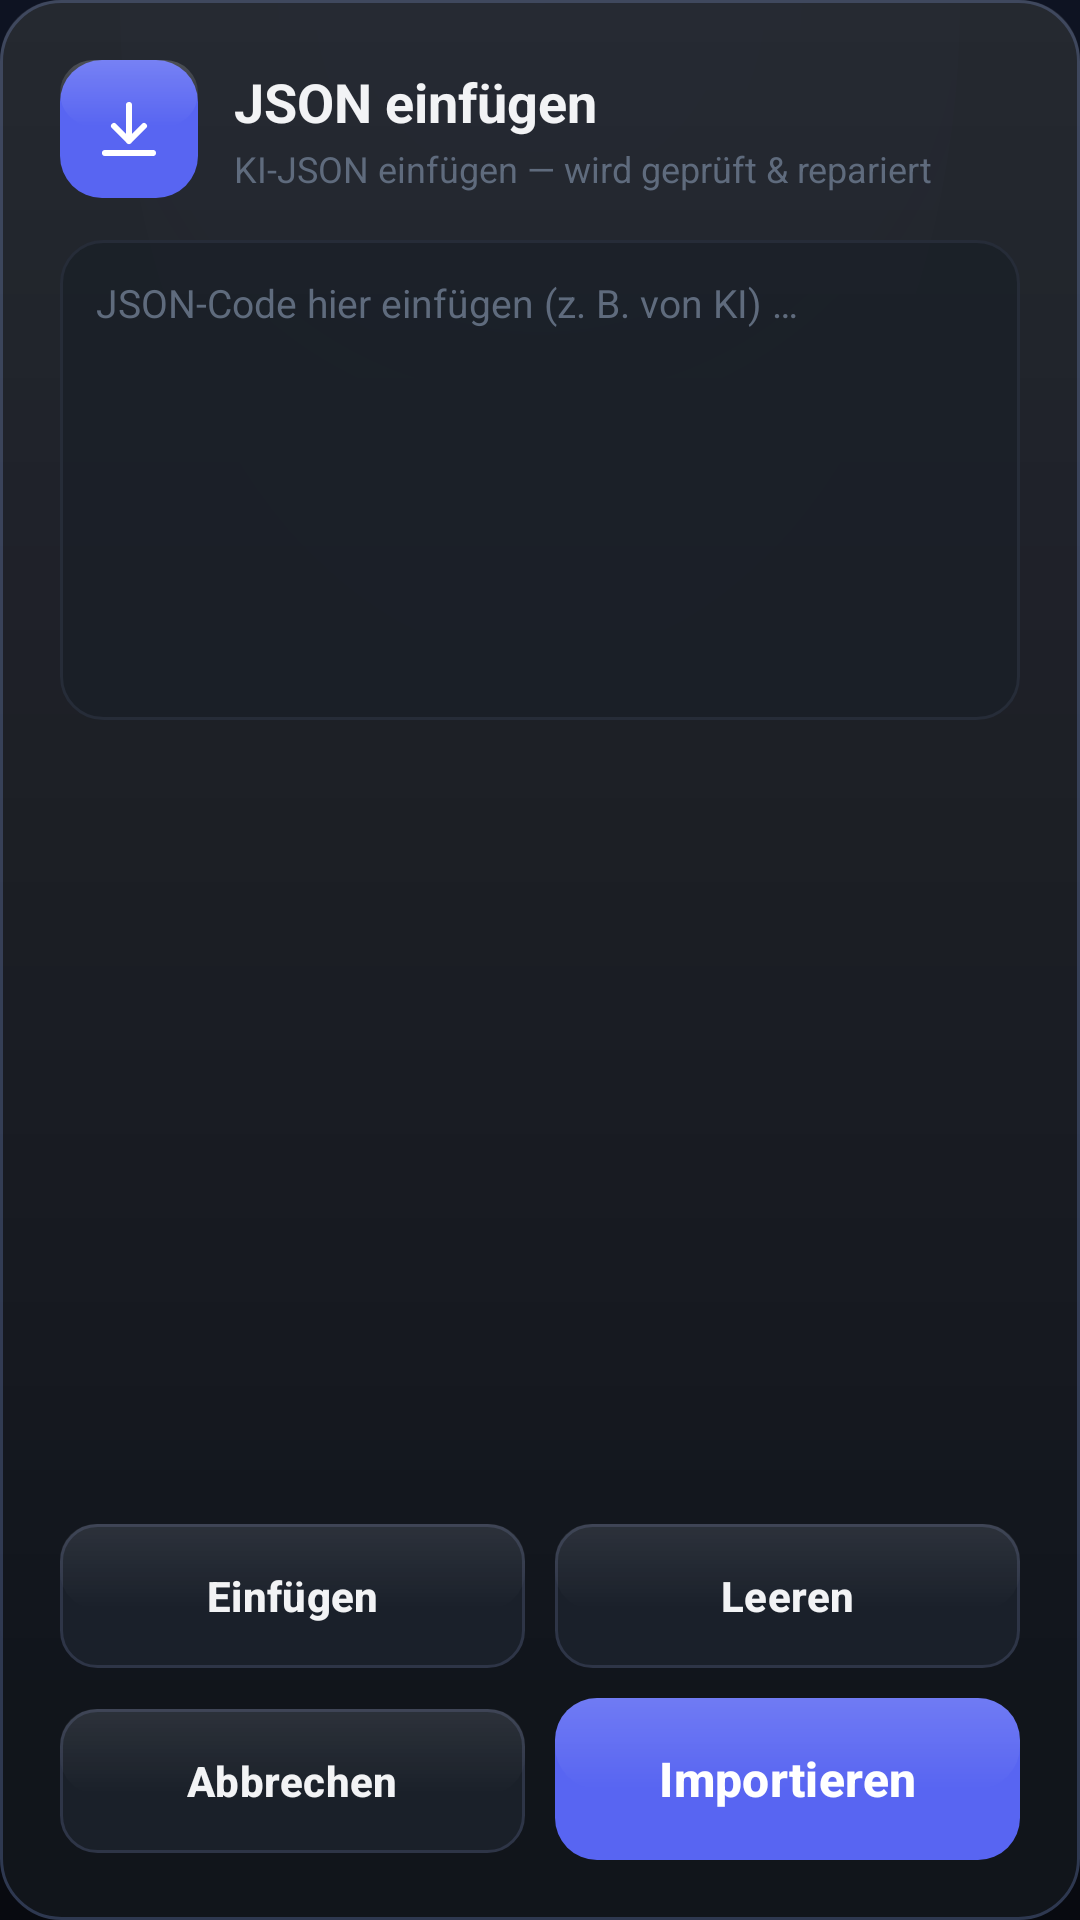

Screen size 1080×1920. Icon name, then its center in pixels as [x,y]:
download: [129,129]
